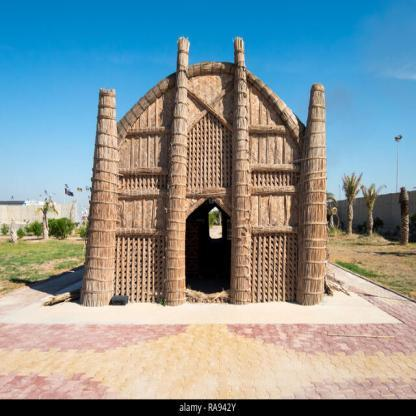Building Outline: (79, 37, 327, 307)
Dont: (111, 295, 129, 306)
Door: (185, 197, 231, 294)
Facade: (96, 134, 326, 304)
Ground Floor: (96, 134, 326, 304)
Pillar: (79, 88, 118, 307), (164, 37, 190, 307), (296, 82, 327, 306), (230, 37, 252, 305)
